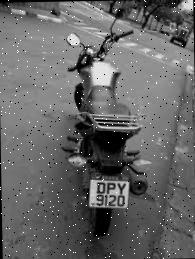placa_mercosul: (88, 170, 130, 209)
